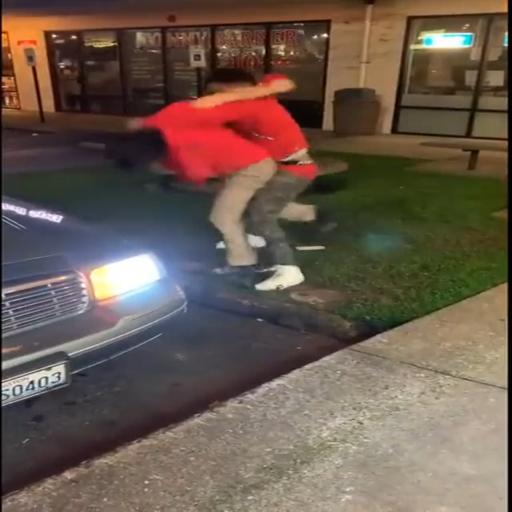violencia: (82, 58, 358, 299)
